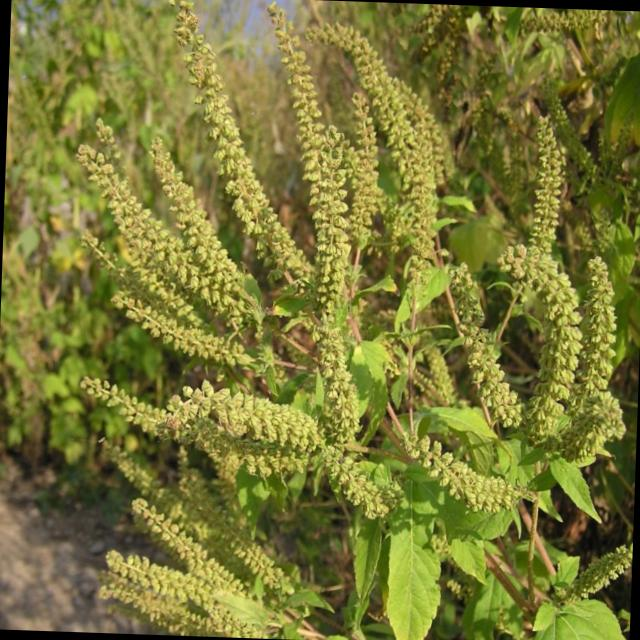ambrosia: (28, 136, 279, 427), (469, 114, 640, 471), (128, 0, 320, 269), (67, 472, 298, 639), (326, 13, 454, 234), (361, 396, 528, 529), (546, 542, 632, 590)
